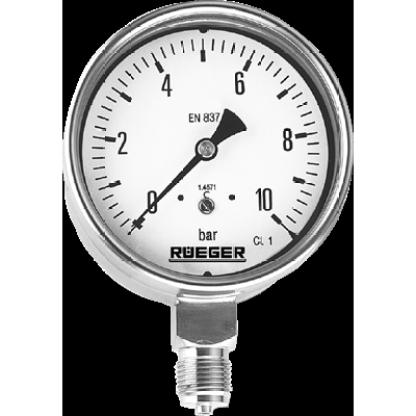needle: (131, 155, 201, 227)
